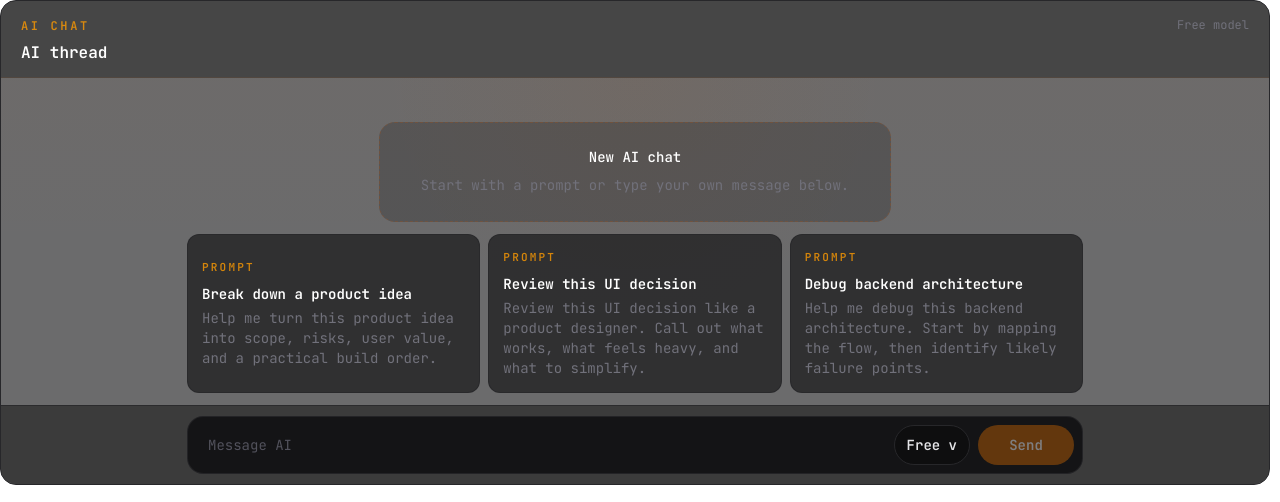
Scenario: AiConversation › closes the model menu when clicking outside
Step 1. Click the button "Free v" → (932, 444), box [894, 424, 970, 464]
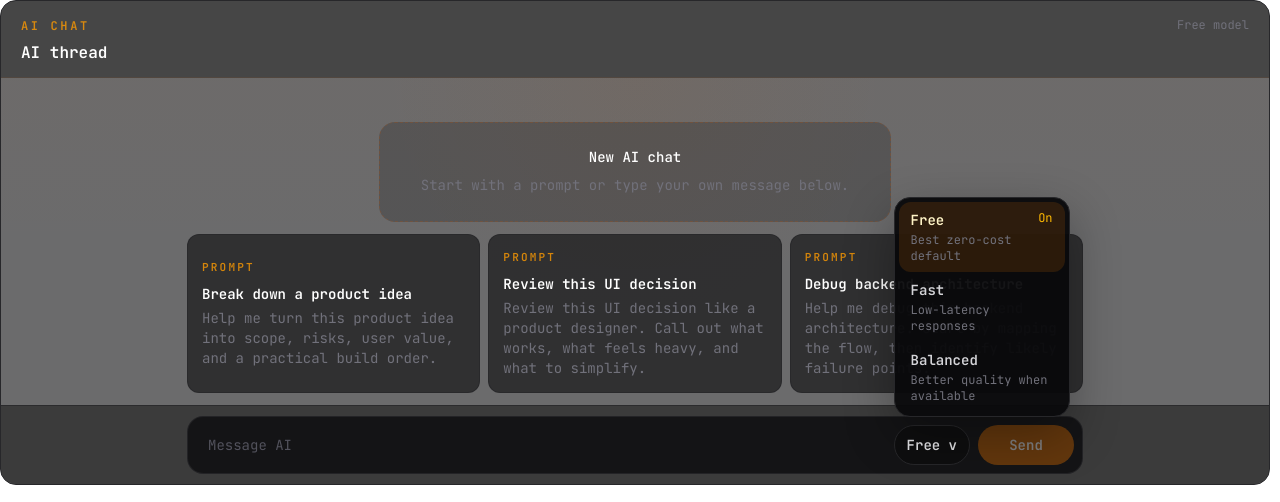
Now the menu is shown, box [894, 196, 1070, 416]
Step 2. Press the mouse on the element that starts with "AI Chat" → (635, 242), box [0, 0, 1270, 484]
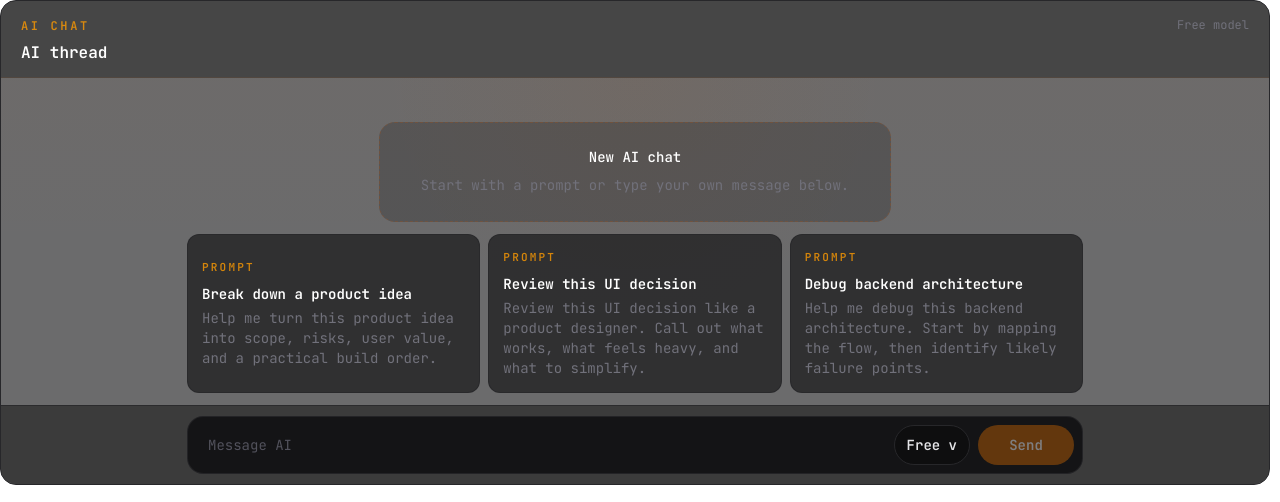
Now the menu is gone
